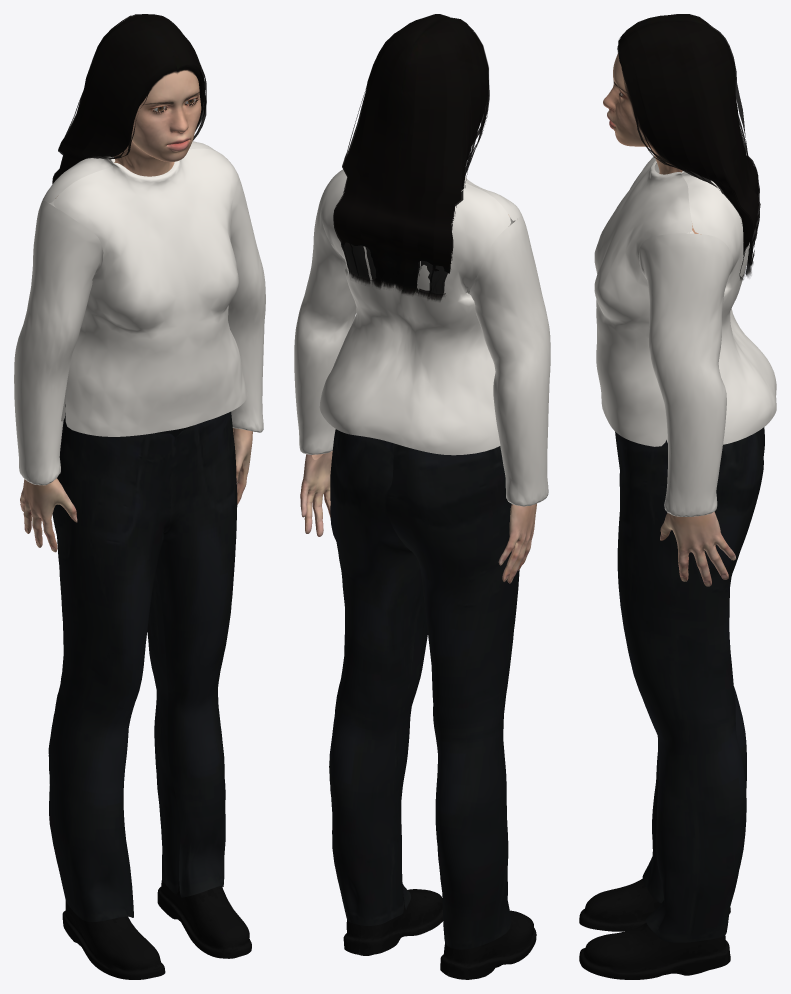
File: woman-standing.glb
3 views of the same model, side by side, from view 1: azimuth 30°, elevation 25°; view 2: azimuth 150°, elevation 25°; view 3: azimuth 270°, elevation 25° (orthographic).
Parts seen in each view (by area): view 1: Cloth_jeans_static, Cloth_hoodie_static, Hair_long01_static, Body_static, Cloth_shoes_static; view 2: Cloth_jeans_static, Cloth_hoodie_static, Hair_long01_static, Cloth_shoes_static, Body_static; view 3: Cloth_jeans_static, Cloth_hoodie_static, Hair_long01_static, Cloth_shoes_static, Body_static.
Part boxes in pixels (x1,y1,x2,y2): Cloth_jeans_static: [48, 404, 237, 921]; Cloth_hoodie_static: [14, 141, 265, 485]; Hair_long01_static: [52, 14, 206, 183]; Body_static: [20, 70, 252, 552]; Cloth_shoes_static: [62, 880, 251, 979]; Cloth_jeans_static: [329, 429, 519, 949]; Cloth_hoodie_static: [294, 169, 550, 506]; Hair_long01_static: [333, 14, 489, 301]; Cloth_shoes_static: [343, 889, 536, 979]; Body_static: [300, 214, 536, 583]; Cloth_jeans_static: [615, 427, 764, 942]; Cloth_hoodie_static: [594, 156, 776, 516]; Hair_long01_static: [617, 14, 760, 280]; Cloth_shoes_static: [579, 878, 730, 979]; Body_static: [603, 53, 735, 586].
Bounding box in the file's own units: 0.4474 × 1.64 × 0.3156.
12 materials, 10 textured.
